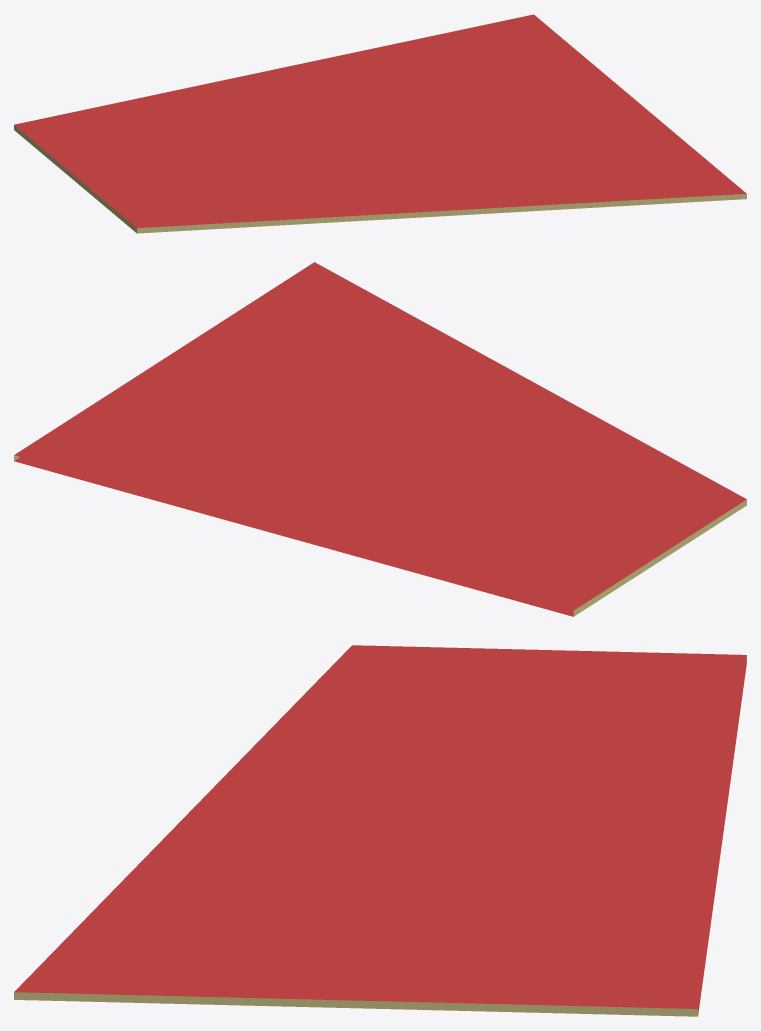
3 views of the same model, one above another, from view 1: azimuth 30°, elevation 25°; view 2: azimuth 150°, elevation 25°; view 3: azimuth 270°, elevation 25° (orthographic). The views are drawn at different scales.
Size of the model in its own units: 10.12 by 8.61 by 0.1.
